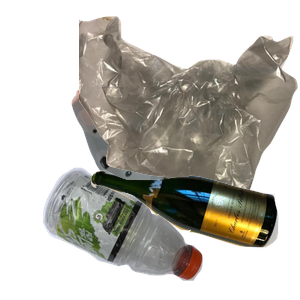glass: (88, 167, 300, 300)
metal: (69, 58, 300, 238)
plastic: (40, 165, 235, 300)
trash: (79, 14, 300, 194)
